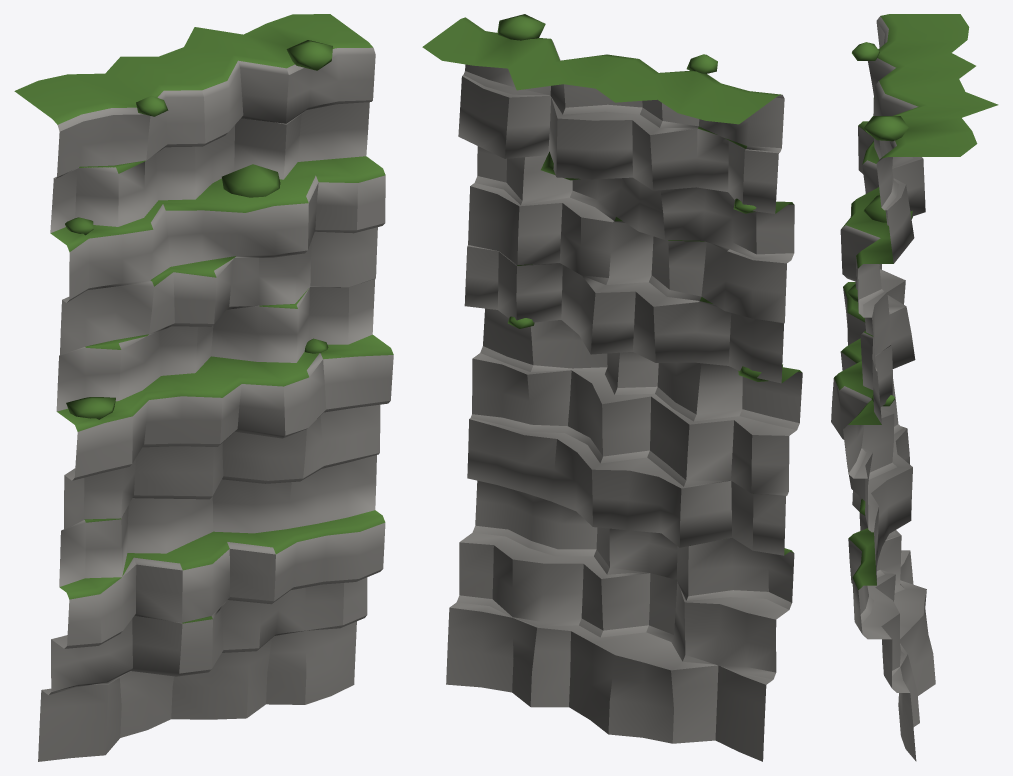
Rendered from cliff_straight_75_lod1.glb.
3 views of the same model, side by side, from view 1: azimuth 30°, elevation 25°; view 2: azimuth 150°, elevation 25°; view 3: azimuth 270°, elevation 25° (orthographic). The views are drawn at different scales.
Parts seen in each view (by area): view 1: cliff_straight_75_lod1; view 2: cliff_straight_75_lod1; view 3: cliff_straight_75_lod1.
Boxes of the visible parts, x1,y1,x2,y2 form: cliff_straight_75_lod1: (14, 14, 393, 761); cliff_straight_75_lod1: (422, 14, 802, 761); cliff_straight_75_lod1: (831, 14, 998, 761).
Bounding box in the file's own units: 40 × 80.79 × 19.86.
